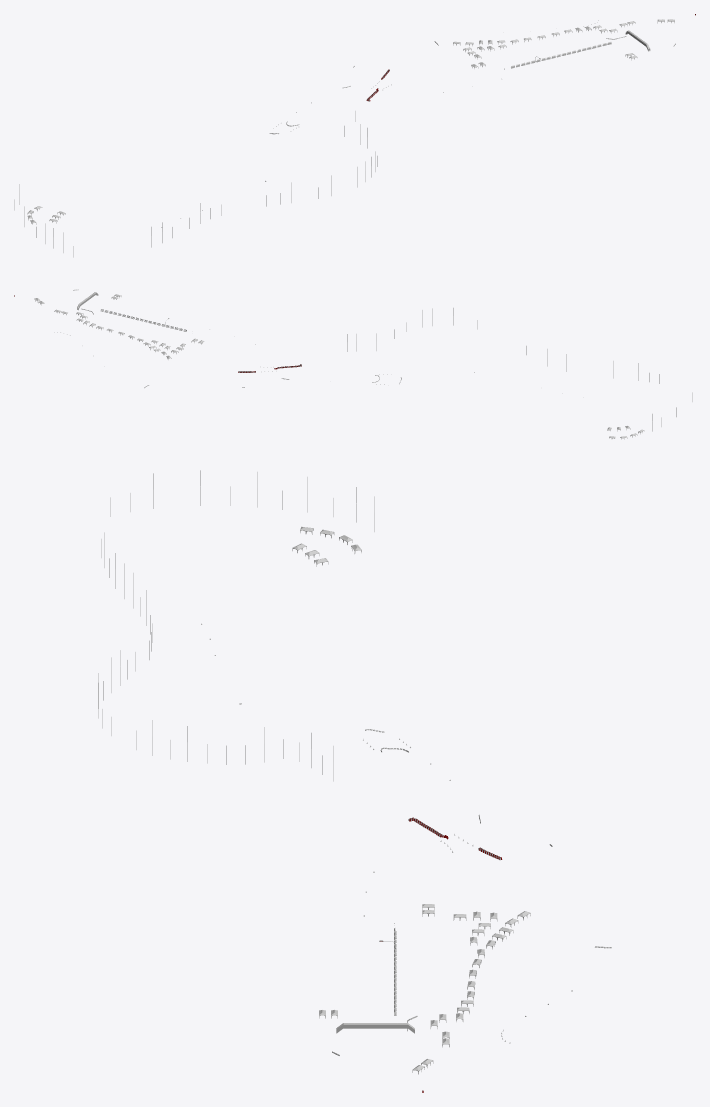
The model's file is nurburg_objects.FBX.
3 renders of one model, top to bottom at view 1: azimuth 30°, elevation 25°; view 2: azimuth 150°, elevation 25°; view 3: azimuth 270°, elevation 25°, orthographic. The views are drawn at different scales.
Visible parts, largest first — view 1: prop_tents, flag_poles; view 2: prop_tents, flag_poles; view 3: prop_tents, flag_poles.
Boxes of the visible parts, box(x1,y1,x2,y2) form: prop_tents: box(27, 19, 674, 224); flag_poles: box(14, 111, 377, 257); prop_tents: box(34, 294, 644, 439); flag_poles: box(347, 308, 692, 431); prop_tents: box(292, 526, 530, 1074); flag_poles: box(98, 470, 374, 781).
Bounding box in the file's own units: 31261 × 1881 × 11313.
